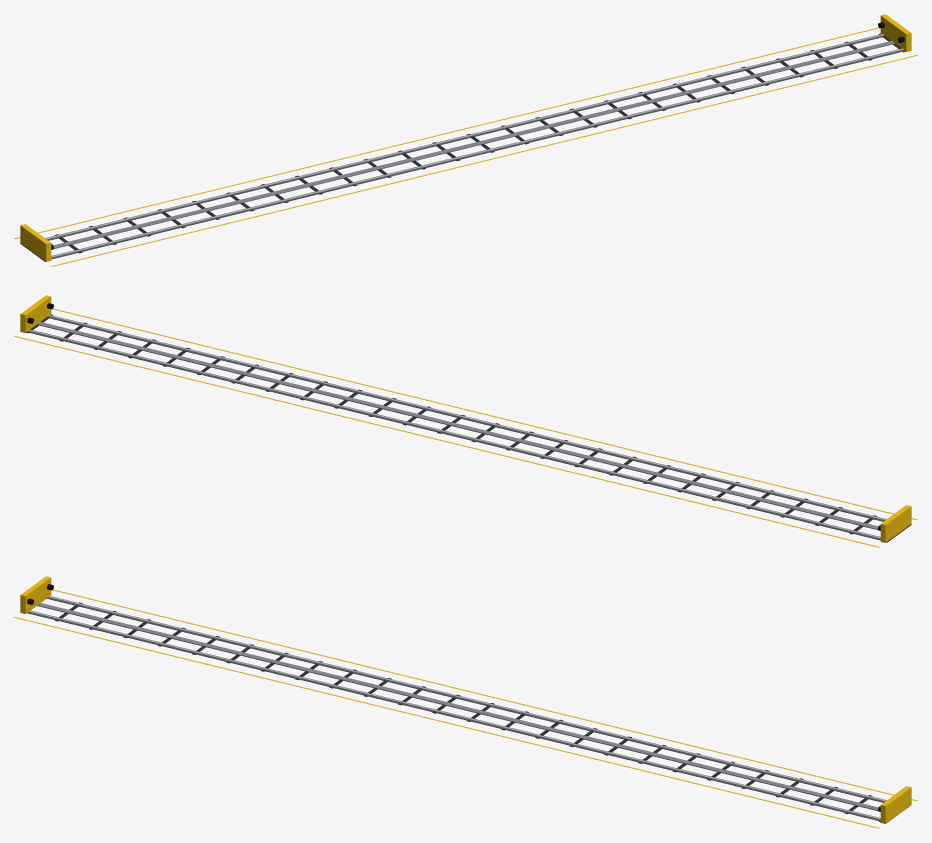
File: rgv_track_25.2m.glb
3 renders of one model, top to bottom at view 1: azimuth 30°, elevation 25°; view 2: azimuth 150°, elevation 25°; view 3: azimuth 330°, elevation 25°, orthographic.
Parts seen in each view (by area): view 1: track__steel_dark, track__yellow, track__grey, track__steel, track__dark; view 2: track__steel_dark, track__yellow, track__grey, track__steel, track__dark; view 3: track__steel_dark, track__yellow, track__grey, track__steel, track__dark.
Part boxes in pixels (<box>): track__steel_dark: <box>45,34,904,259</box>; track__yellow: <box>14,14,917,266</box>; track__grey: <box>53,41,894,248</box>; track__steel: <box>23,34,903,257</box>; track__dark: <box>20,33,905,261</box>; track__steel_dark: <box>27,315,886,540</box>; track__yellow: <box>14,295,917,547</box>; track__grey: <box>37,322,897,533</box>; track__steel: <box>28,315,908,540</box>; track__dark: <box>26,314,911,542</box>; track__steel_dark: <box>27,596,908,822</box>; track__yellow: <box>14,576,917,828</box>; track__grey: <box>37,603,898,815</box>; track__steel: <box>28,596,908,821</box>; track__dark: <box>55,602,880,822</box>.
Bounding box in the file's own units: 25.22 × 0.5 × 1.95.
